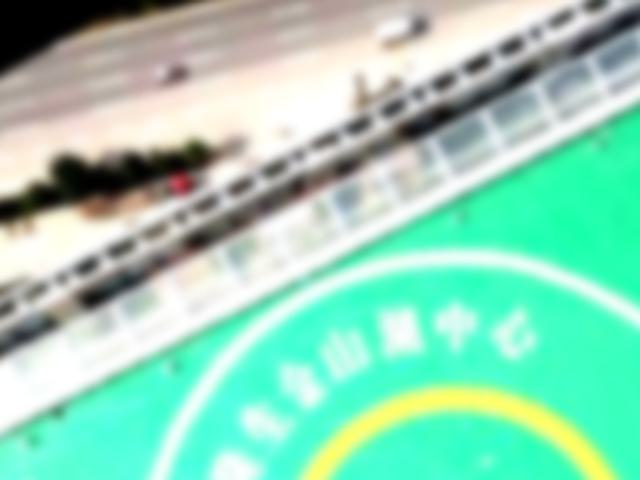Apron: (298, 385, 608, 480)
